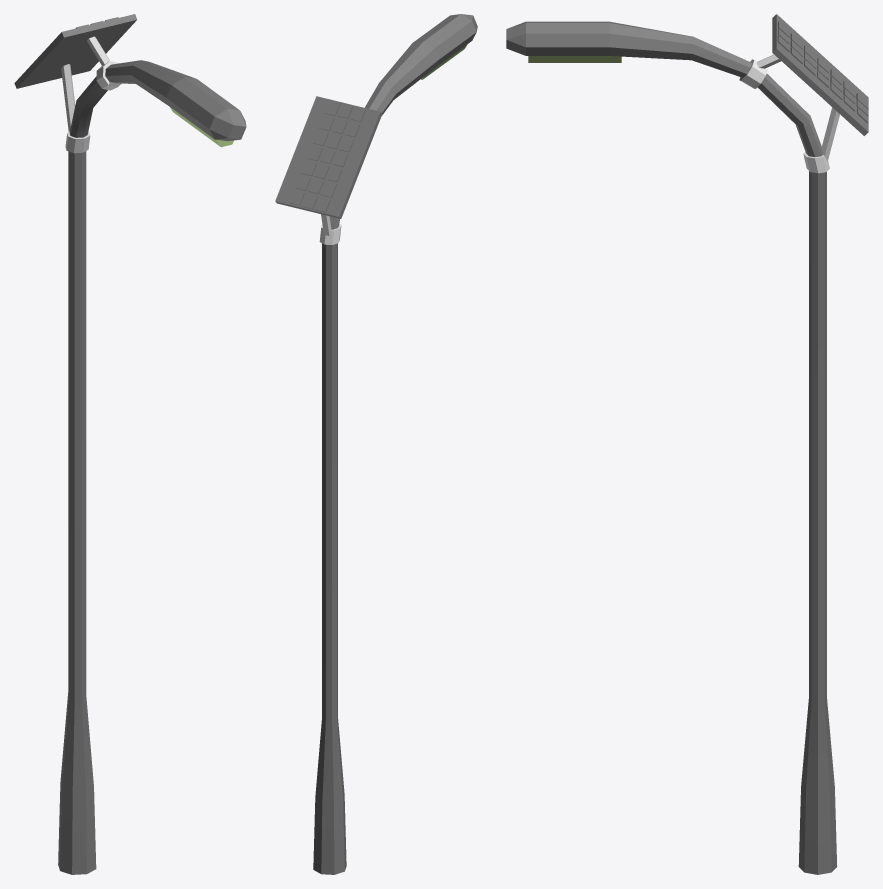
The model's file is SM_Lightpole.fbx.
The picture shows the model from 3 angles, left to right: view 1: azimuth 30°, elevation 25°; view 2: azimuth 150°, elevation 25°; view 3: azimuth 270°, elevation 25°; orthographic projection. The views are drawn at different scales.
Visible parts, largest first — view 1: Lightpole; view 2: Lightpole; view 3: Lightpole.
Part boxes in pixels (box(x1,y1,x2,y2)): Lightpole: box(14, 14, 246, 874); Lightpole: box(275, 14, 477, 874); Lightpole: box(506, 14, 868, 874).
Bounding box in the file's own units: 78.03 × 882 × 344.
